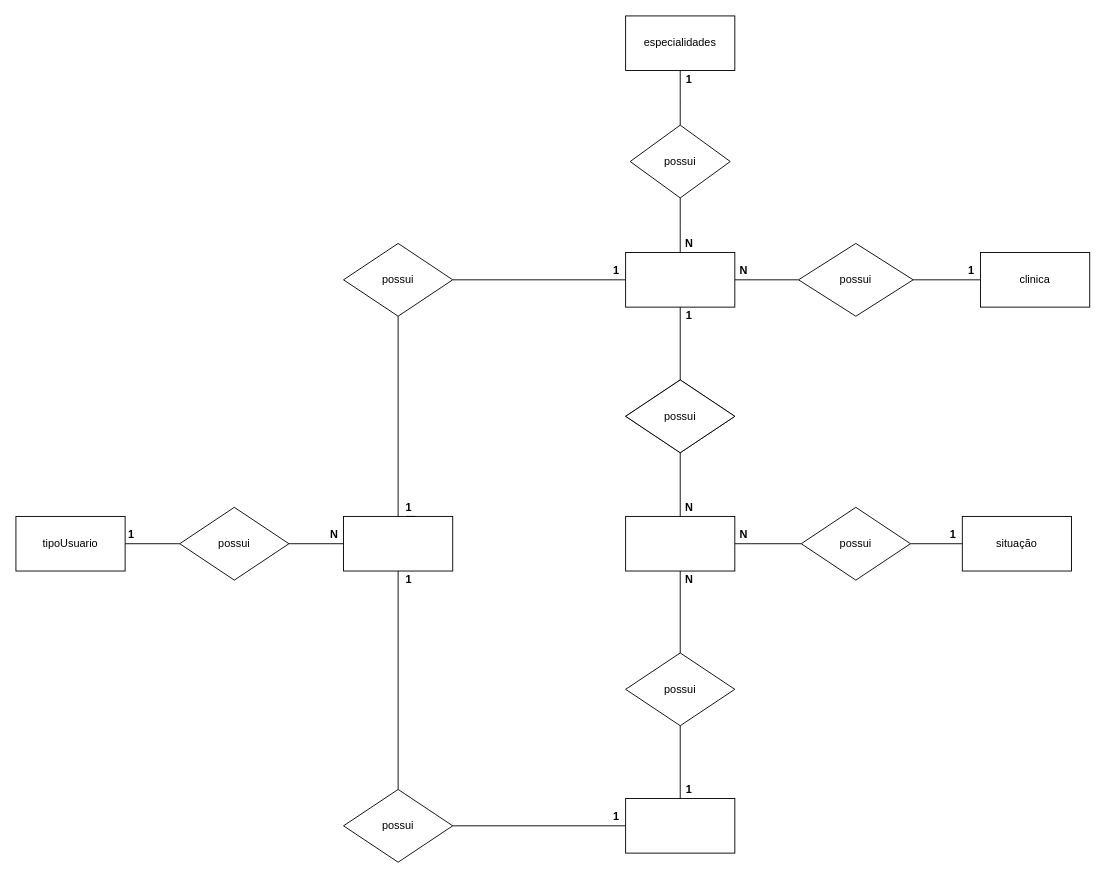
This 1106x878 diagram has some shape labels left out. The shapes that lost their labels are listed below. From the top down, each one's box as (x1, y1, x2, y2) in pixels, then its label:
(625, 252, 735, 307): medico
(343, 516, 453, 571): usuario
(625, 516, 735, 571): consulta
(625, 798, 735, 853): paciente
